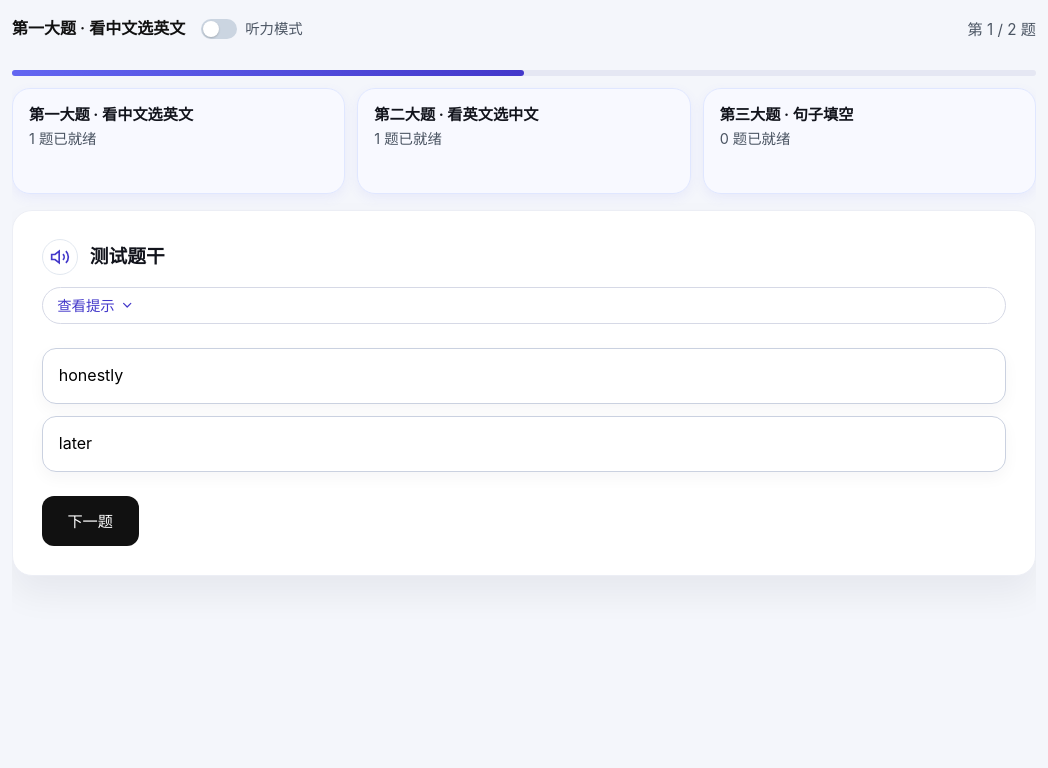
Scenario: QuizPage › 渲染题干并在选择答案后进入下一题
Expected: the heading "测试题干" is shown, [90, 242, 165, 272]
Expected: the button "下一题" is disabled, [42, 496, 139, 546]
Click the button "honestly" at (91, 375), box [42, 348, 1006, 404]
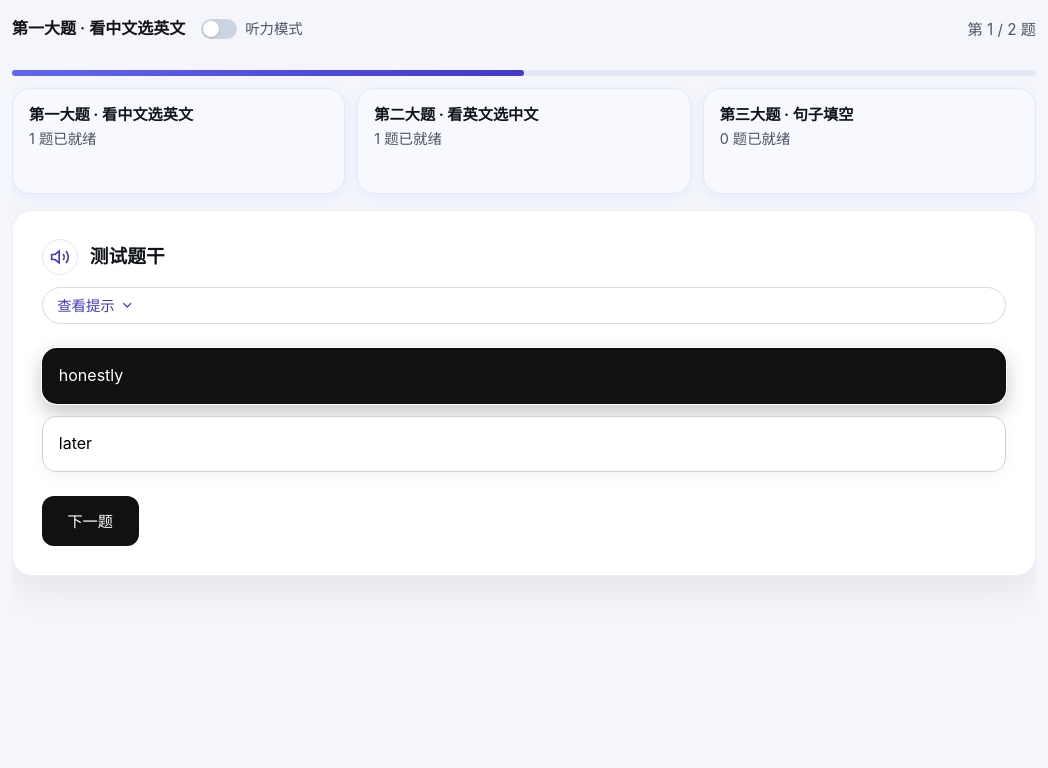
Click the button "下一题" at (90, 521), box [42, 496, 139, 546]
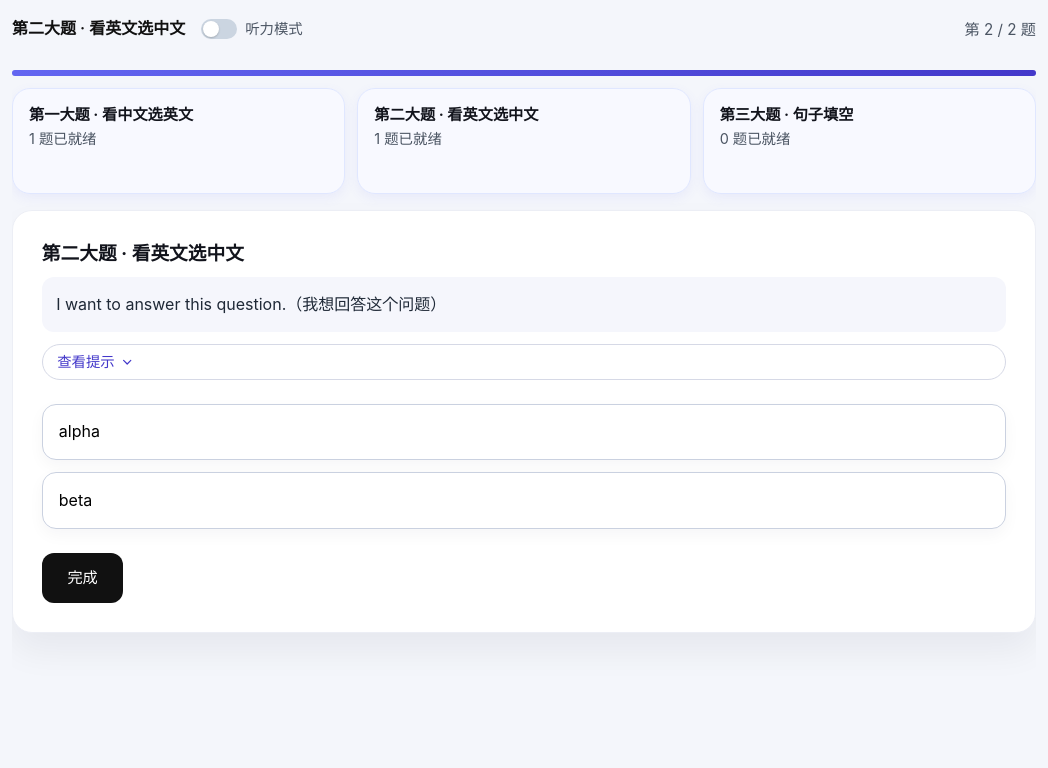
Result: the heading "第二大题 · 看英文选中文" is shown at [42, 239, 244, 269]
Result: the text "第 2 / 2 题" is shown at [964, 18, 1036, 42]
